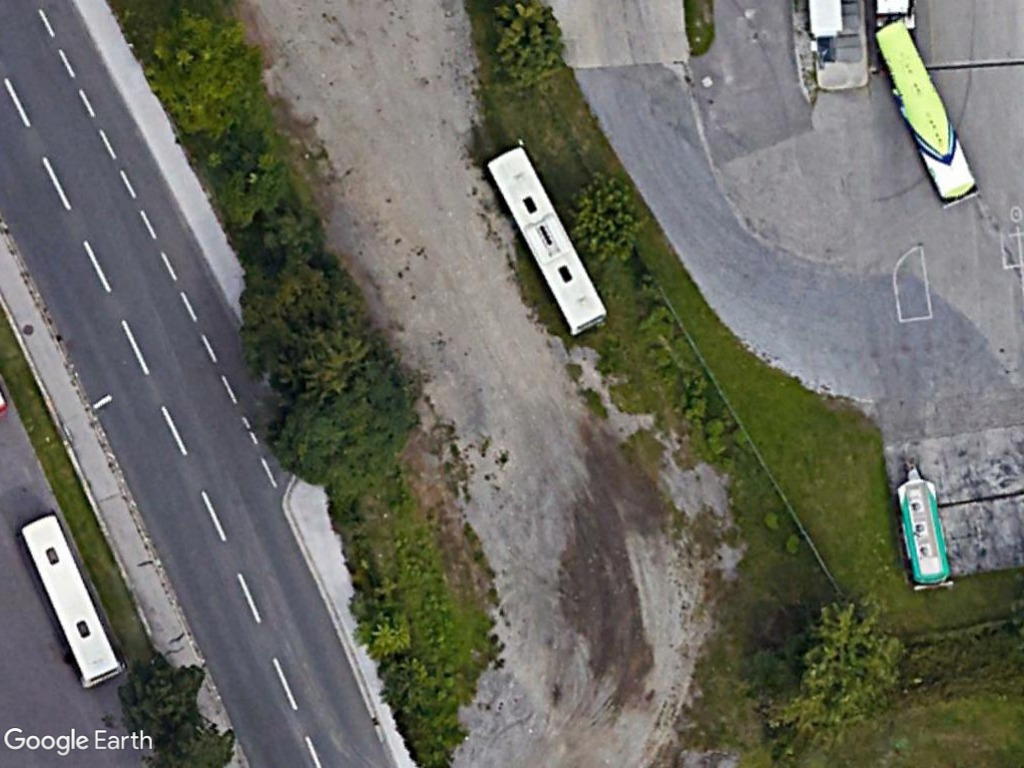bus: (477, 142, 611, 341), (869, 19, 983, 210), (16, 512, 128, 691)
